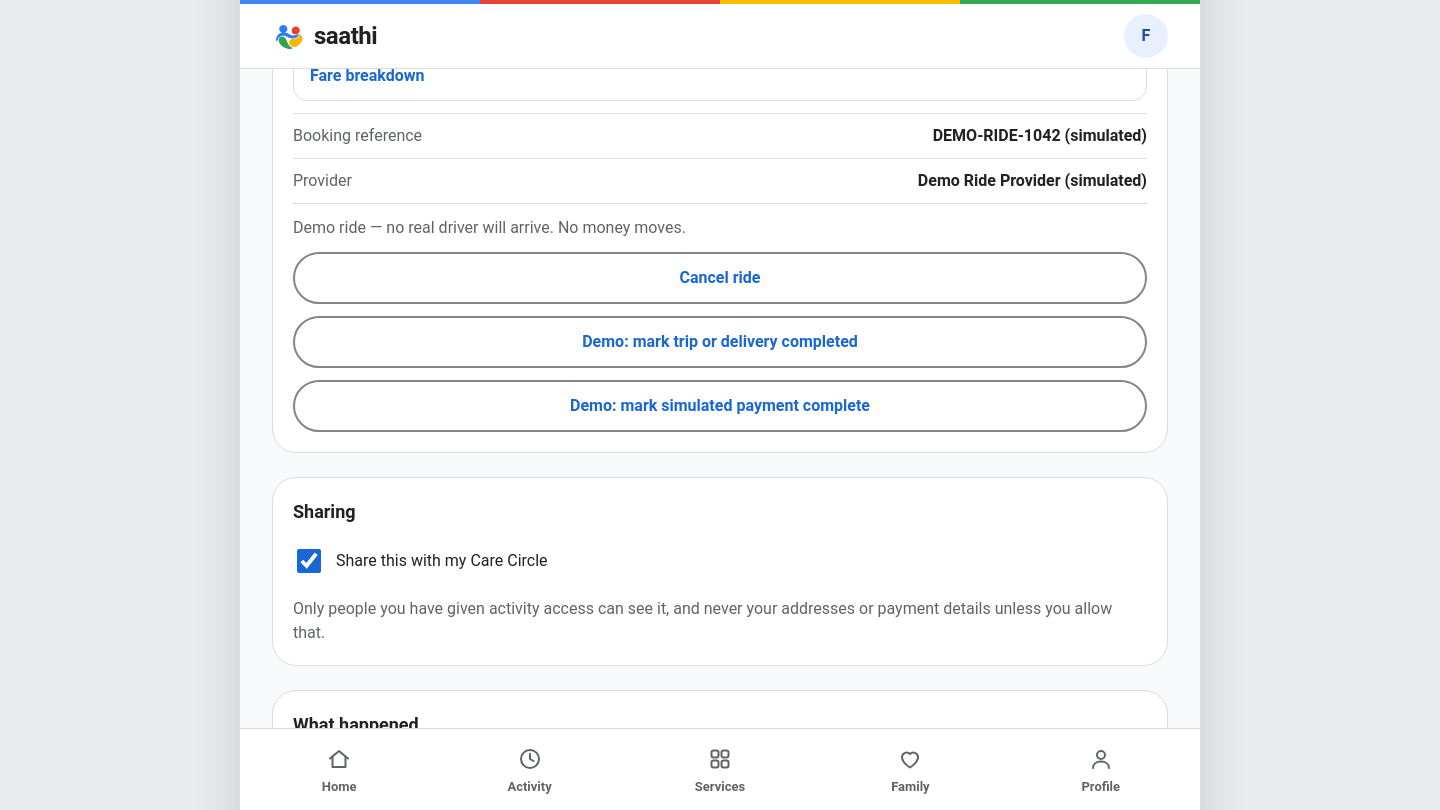
no celebration for server error
(page scrolled)
Click the button "Demo: mark simulated payment complete": x=720, y=406 left=293, top=380, right=1147, bottom=432
(page scrolled)
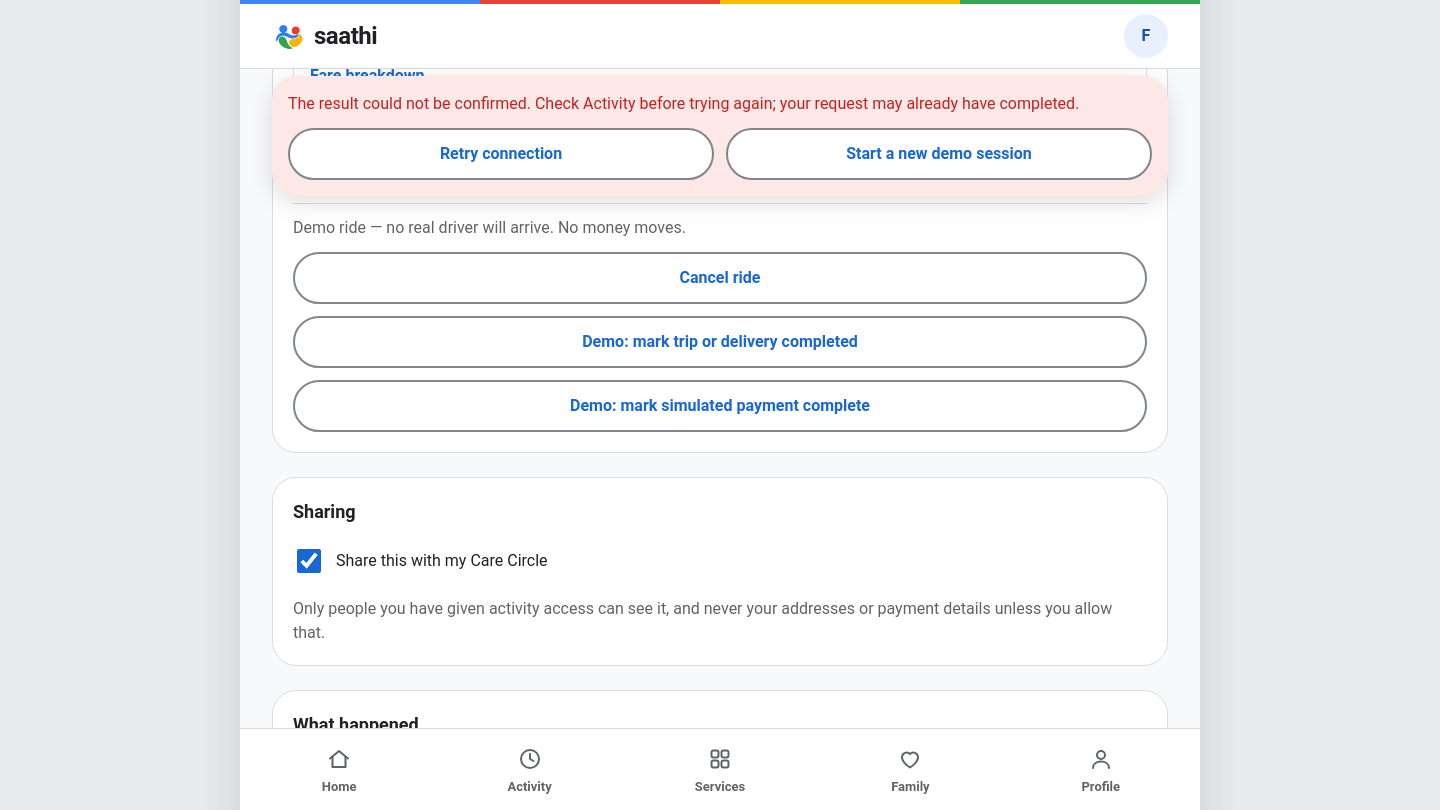
Check: the message is shown, box left=272, top=76, right=1168, bottom=196
